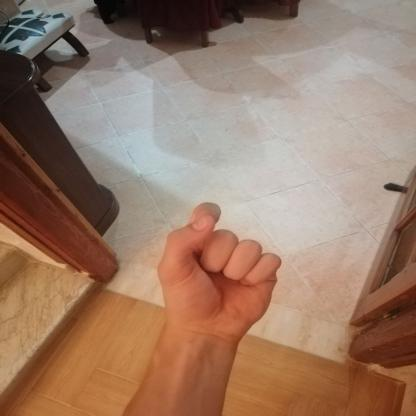FAA: (141, 193, 298, 347)
